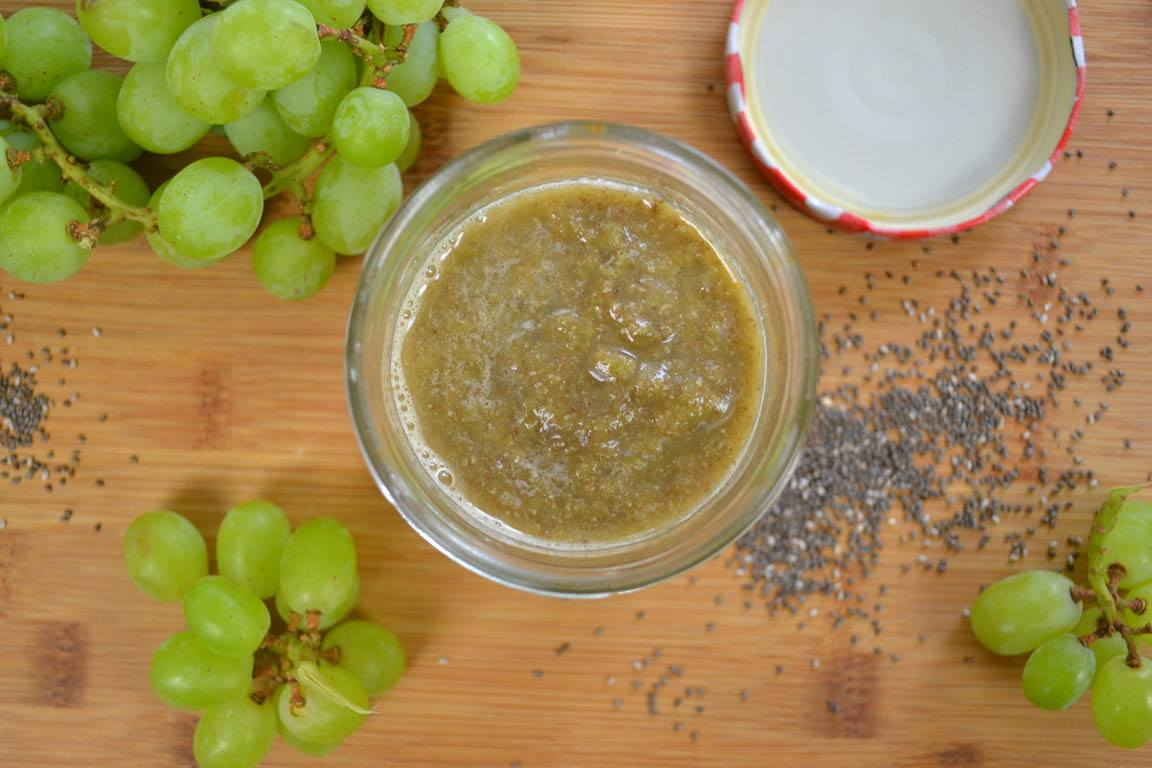Green grapes: (1, 1, 497, 302), (111, 488, 416, 762), (977, 463, 1152, 762)
